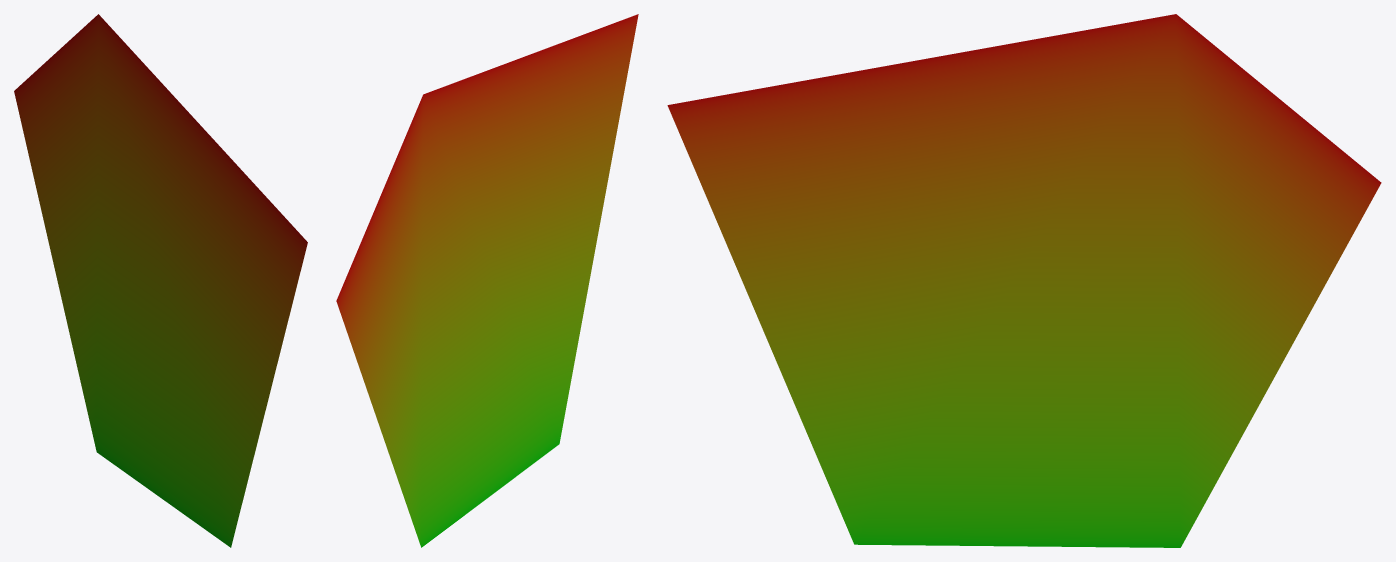
File: Rush Daffodil_LOD7_Var10_wftgfjaia.fbx
The picture shows the model from 3 angles, left to right: view 1: azimuth 30°, elevation 25°; view 2: azimuth 150°, elevation 25°; view 3: azimuth 270°, elevation 25°; orthographic projection. The views are drawn at different scales.
Visible parts, largest first — view 1: _a52g_var10_LOD7; view 2: _a52g_var10_LOD7; view 3: _a52g_var10_LOD7.
Boxes of the visible parts, x1,y1,x2,y2 form: _a52g_var10_LOD7: [14, 14, 307, 547]; _a52g_var10_LOD7: [336, 14, 638, 547]; _a52g_var10_LOD7: [667, 14, 1381, 547].
Bounding box in the file's own units: 0 × 43.26 × 52.43.
